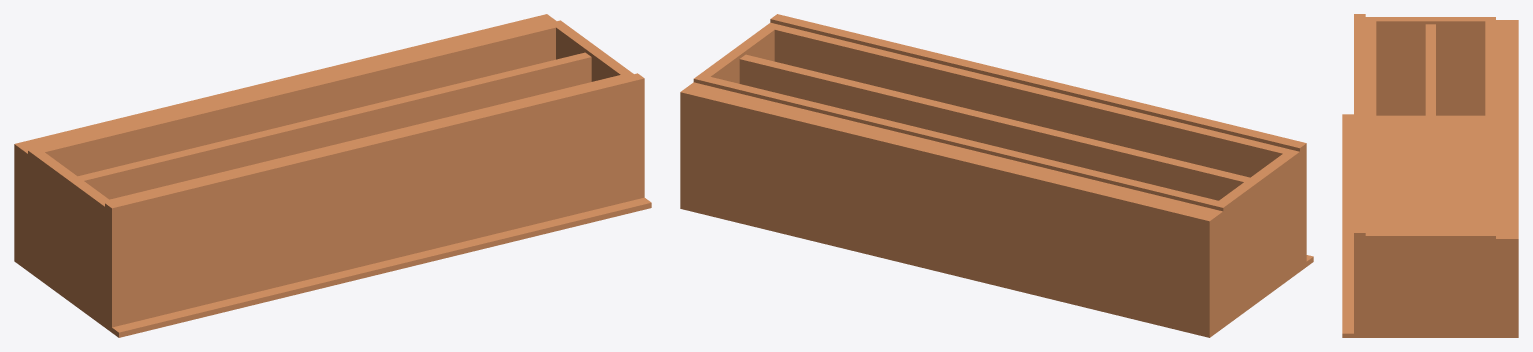
File: kitchencabinet_visual.obj
The picture shows the model from 3 angles, left to right: view 1: azimuth 30°, elevation 25°; view 2: azimuth 150°, elevation 25°; view 3: azimuth 270°, elevation 25°; orthographic projection. The views are drawn at different scales.
Visible parts, largest first — view 1: kitchenCabinet1.001_ID7.000; view 2: kitchenCabinet1.001_ID7.000; view 3: kitchenCabinet1.001_ID7.000.
Boxes of the visible parts, bbox=[...] form: kitchenCabinet1.001_ID7.000: bbox=[14, 14, 651, 337]; kitchenCabinet1.001_ID7.000: bbox=[680, 14, 1313, 337]; kitchenCabinet1.001_ID7.000: bbox=[1342, 14, 1518, 337].
Size of the model in its own units: 6.27 by 1.4 by 2.13.
